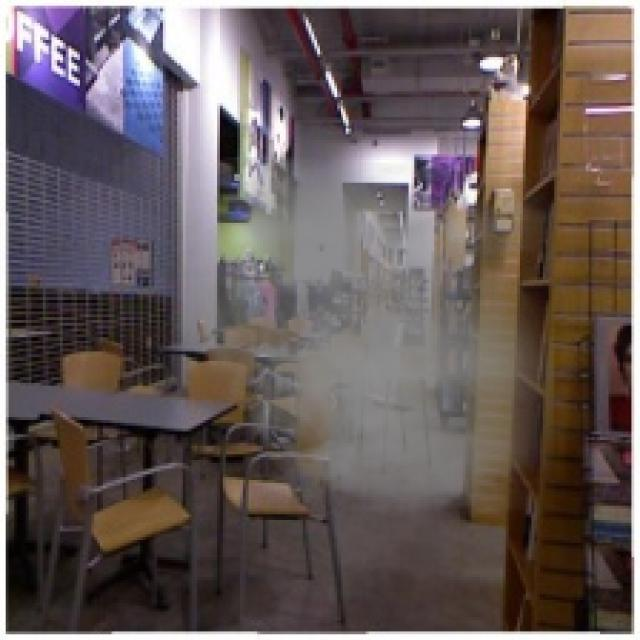Smoke: (162, 157, 554, 517)
